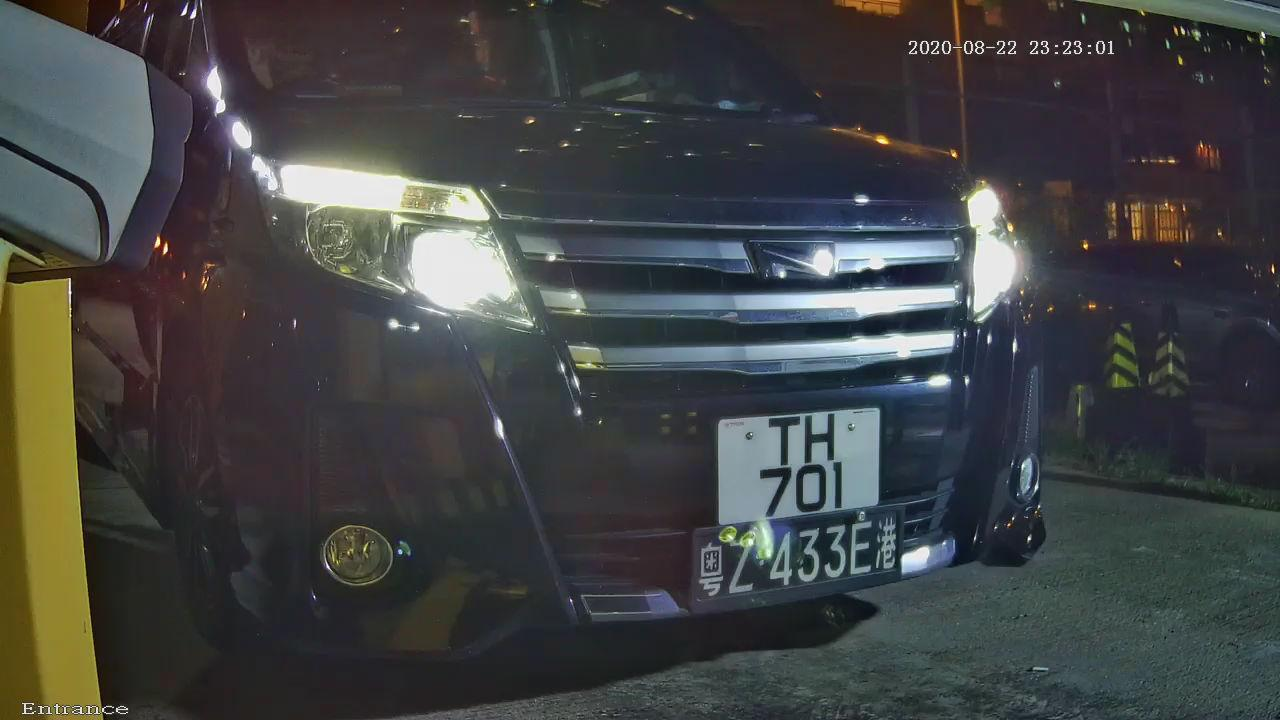License Plate: (663, 353, 940, 597)
